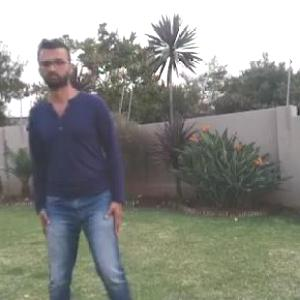follow: (25, 34, 131, 299)
